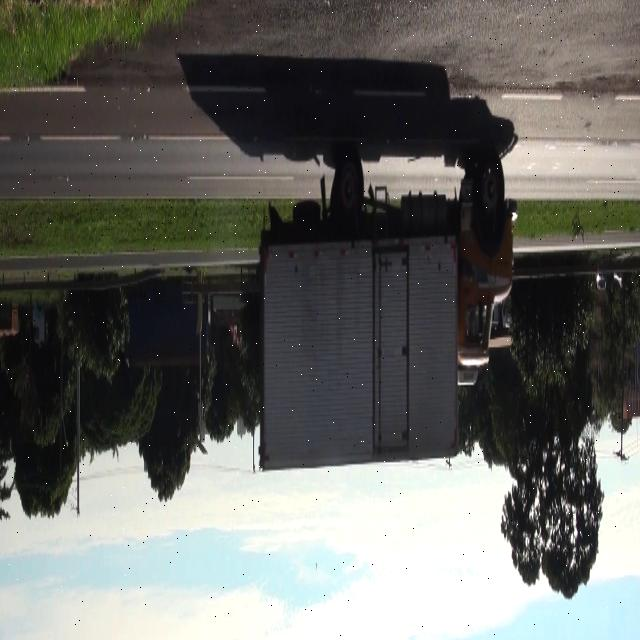-axle: (334, 148, 366, 232), (475, 152, 504, 236)
